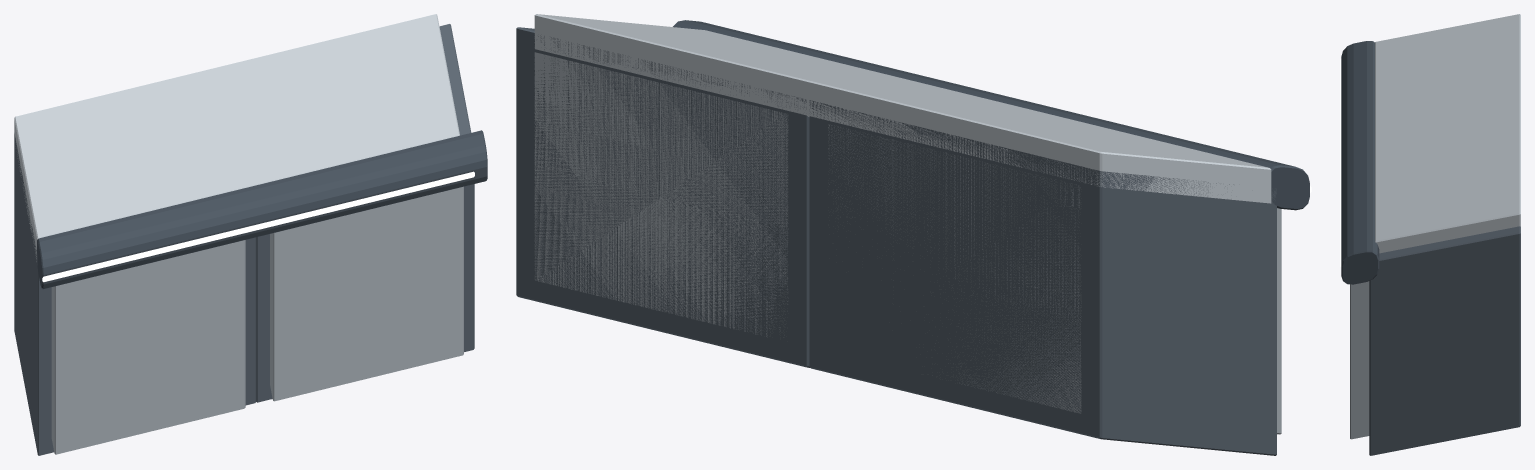
The model's file is Terrain_TopRun2R.gltf.
The picture shows the model from 3 angles, left to right: view 1: azimuth 30°, elevation 25°; view 2: azimuth 150°, elevation 25°; view 3: azimuth 270°, elevation 25°; orthographic projection. The views are drawn at different scales.
Visible parts, largest first — view 1: Terrain_TopRun2R_baked; view 2: Terrain_TopRun2R_baked; view 3: Terrain_TopRun2R_baked.
Part boxes in pixels (x1,y1,x2,y2): Terrain_TopRun2R_baked: (14,14,487,455); Terrain_TopRun2R_baked: (516,14,1311,455); Terrain_TopRun2R_baked: (1340,14,1520,455).
Bounding box in the file's own units: 2.29 × 1.18 × 0.74.
